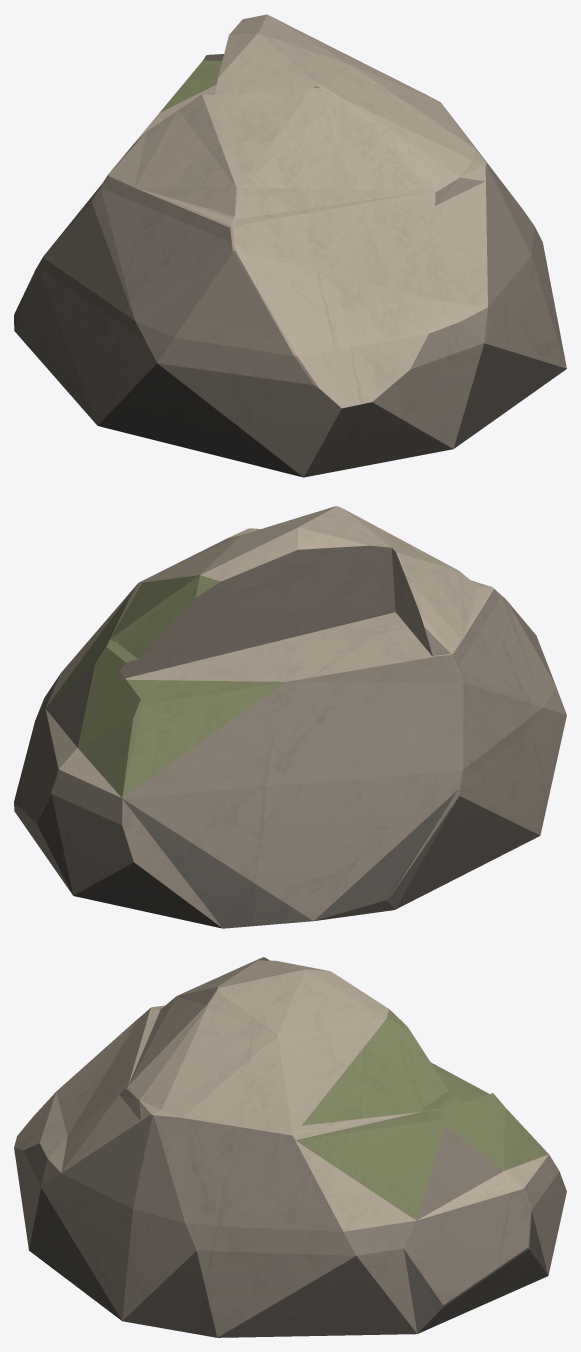
3 renders of one model, top to bottom at view 1: azimuth 30°, elevation 25°; view 2: azimuth 150°, elevation 25°; view 3: azimuth 270°, elevation 25°, orthographic. The views are drawn at different scales.
Parts seen in each view (by area): view 1: rock; view 2: rock; view 3: rock.
Part boxes in pixels (x1=…): rock: x1=14, y1=14, x2=566, y2=477; rock: x1=14, y1=506, x2=566, y2=928; rock: x1=14, y1=957, x2=566, y2=1337.
Bounding box in the file's own units: 1.3 × 0.85 × 1.6.
Materials: 4 (4 with a texture image).
